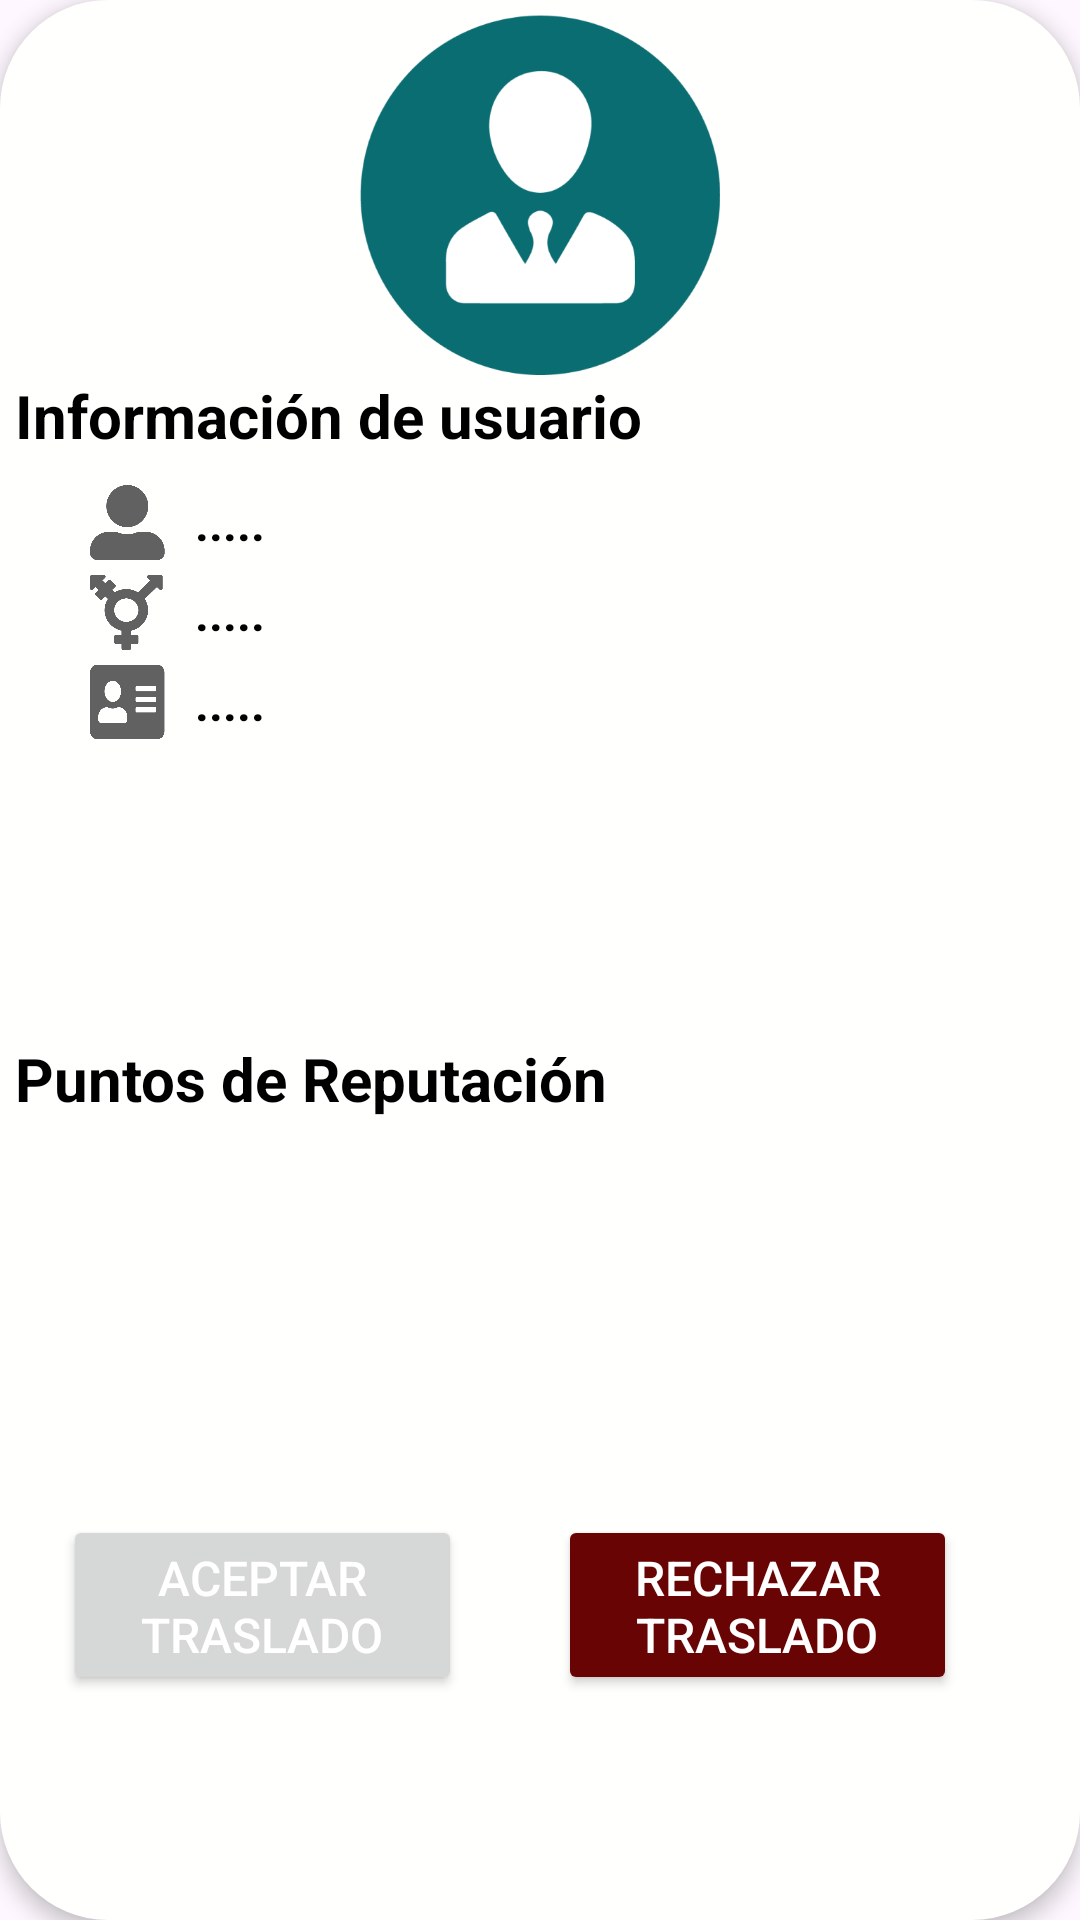

Icons on this 1080x1920 Android screen, each with the point to tap as (x,y):
personazulicon: (540,195)
